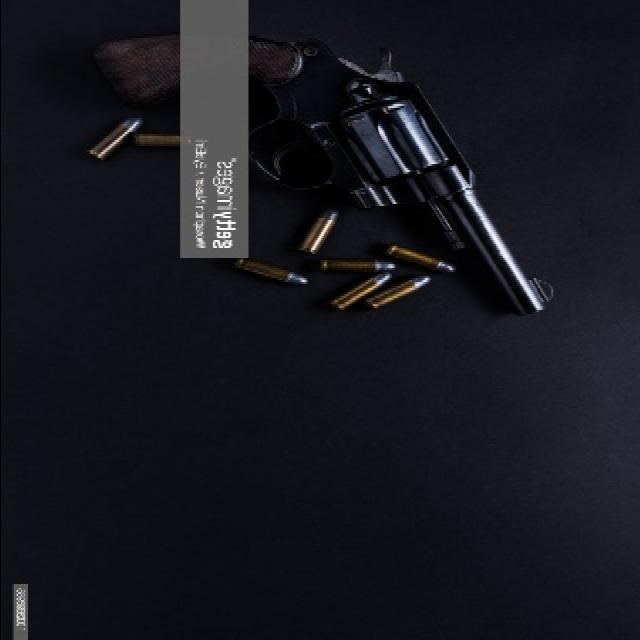handgun: (95, 27, 566, 323)
